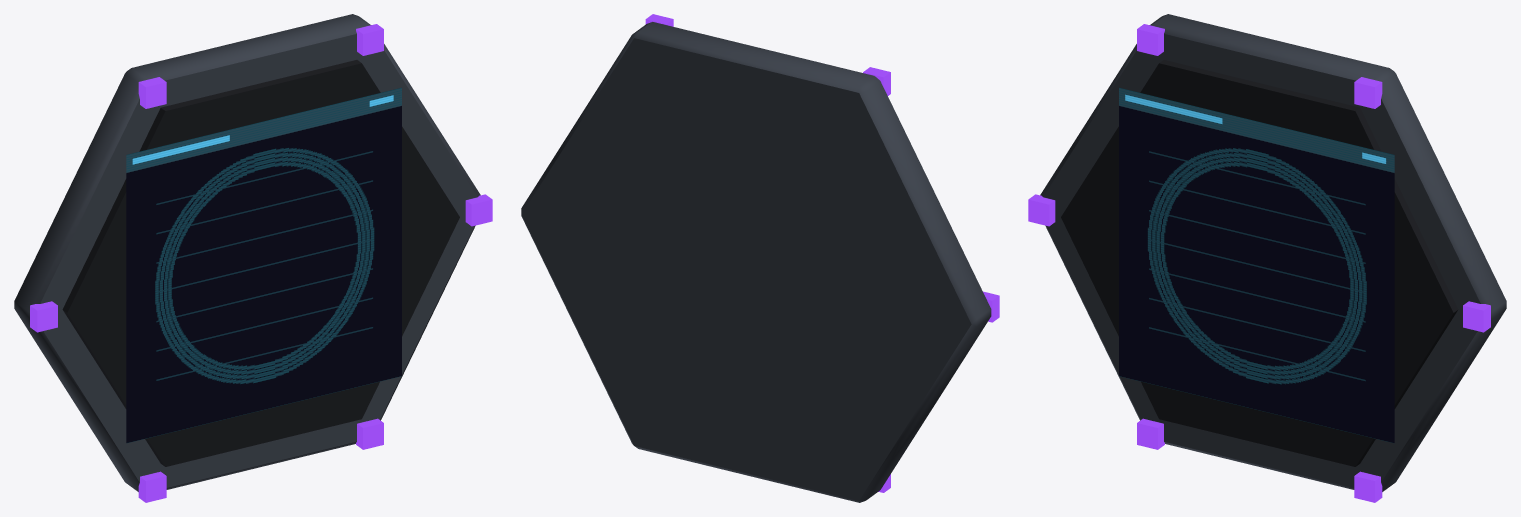
Rendered from display_hex_display.glb.
3 views of the same model, side by side, from view 1: azimuth 30°, elevation 25°; view 2: azimuth 150°, elevation 25°; view 3: azimuth 330°, elevation 25° (orthographic).
Parts seen in each view (by area): view 1: display_hex_display; view 2: display_hex_display; view 3: display_hex_display.
Part boxes in pixels (<box>): display_hex_display: <box>14,14,492,502</box>; display_hex_display: <box>521,14,999,502</box>; display_hex_display: <box>1028,14,1506,502</box>.
Bounding box in the file's own units: 1.09 × 0.9526 × 0.105.
4 materials, 1 textured.
